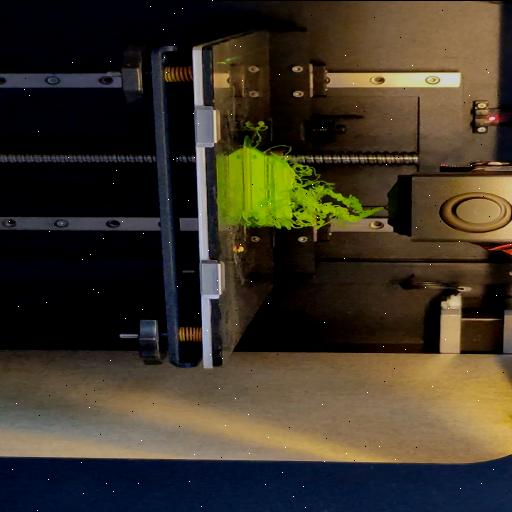spaghetti: (288, 160, 384, 228), (238, 216, 288, 230), (251, 120, 270, 148), (270, 144, 292, 155)
